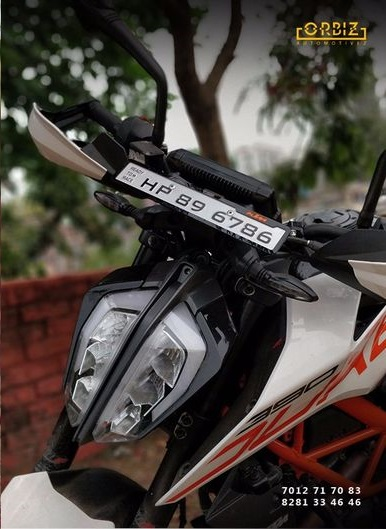HP896786: (115, 158, 286, 249)
